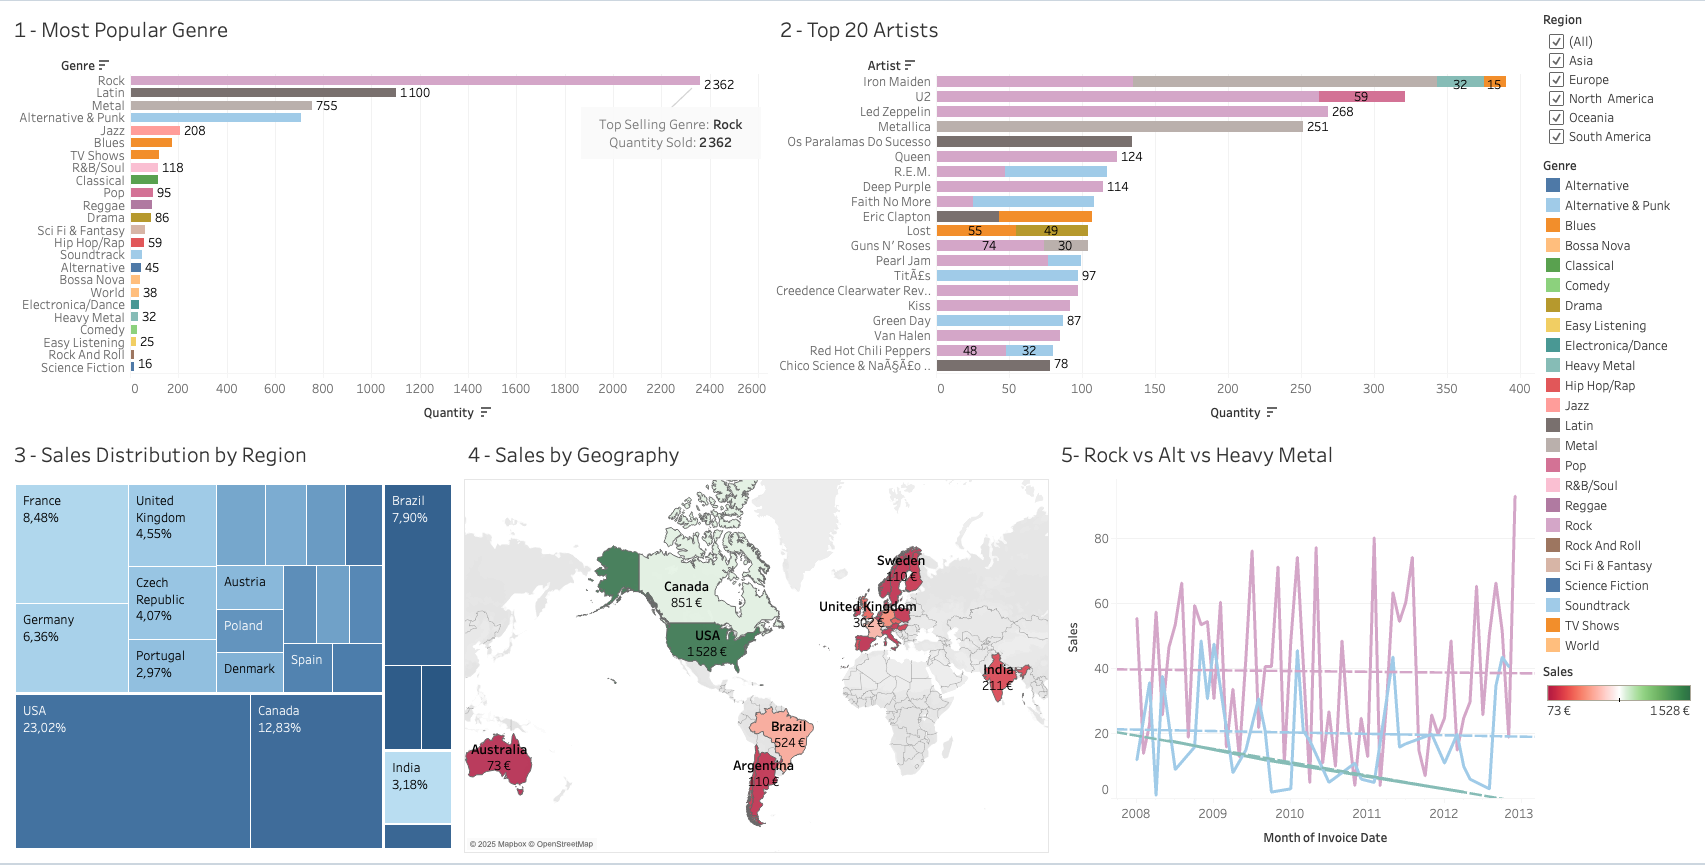

What the dashboard file says about the page in this screenshot:
{"tool":"tableau","page":{"name":"Tableau de bord 3","canvas":[1000,1000],"units":"permille","ordinal":1},"visuals":[{"type":"worksheet","title":"1 - Most Popular Genre","mark":"Automatic","rows":["Genre"],"cols":["Quantity"],"box":[5.2,9.3,442.9,490.7]},{"type":"worksheet","title":"2 - Top 20 Artists","mark":"Automatic","rows":["Artist"],"cols":["Quantity"],"box":[448.1,9.3,442.9,490.7]},{"type":"filter","title":"1 - Most Popular Genre","param":"[federated.179ga0b14ucd3q1bkx83p1xn9cuj].[none:Region:nk]","box":[891.1,9.3,103.8,169]},{"type":"legend","title":"1 - Most Popular Genre","param":"[federated.179ga0b14ucd3q1bkx83p1xn9cuj].[none:Genre:nk]","box":[891.1,178.2,103.8,585.6]},{"type":"worksheet","title":"3 - Sales Distribution by Region","mark":"Automatic","box":[5.2,500,262.5,490.7]},{"type":"worksheet","title":"4 - Sales by Geography","mark":"Multipolygon","box":[267.6,500,342.4,490.7]},{"type":"worksheet","title":"5- Rock vs Alt vs Heavy Metal","mark":"Automatic","rows":["Calculation_1519331591039705088"],"cols":["InvoiceDate"],"box":[610.1,500,281,490.7]},{"type":"legend","title":"4 - Sales by Geography","param":"[federated.179ga0b14ucd3q1bkx83p1xn9cuj].[sum:Calculation_1519331591039705088:qk","box":[891.1,763.9,103.8,75.2]}]}

Visuals, with their boxes on the dashboard's canvas, which has no fixed pixel size, in thousandths of its width and height (x1, y1, x2, y2). These are canvas units, not pixel positions in the 1705x865 screenshot, which may show the page scaled, cropped or inside an application window:
"1 - Most Popular Genre" worksheet: box(5, 9, 448, 500)
"2 - Top 20 Artists" worksheet: box(448, 9, 891, 500)
"1 - Most Popular Genre" filter: box(891, 9, 995, 178)
"1 - Most Popular Genre" legend: box(891, 178, 995, 764)
"3 - Sales Distribution by Region" worksheet: box(5, 500, 268, 991)
"4 - Sales by Geography" worksheet (Multipolygon marks): box(268, 500, 610, 991)
"5- Rock vs Alt vs Heavy Metal" worksheet: box(610, 500, 891, 991)
"4 - Sales by Geography" legend: box(891, 764, 995, 839)
